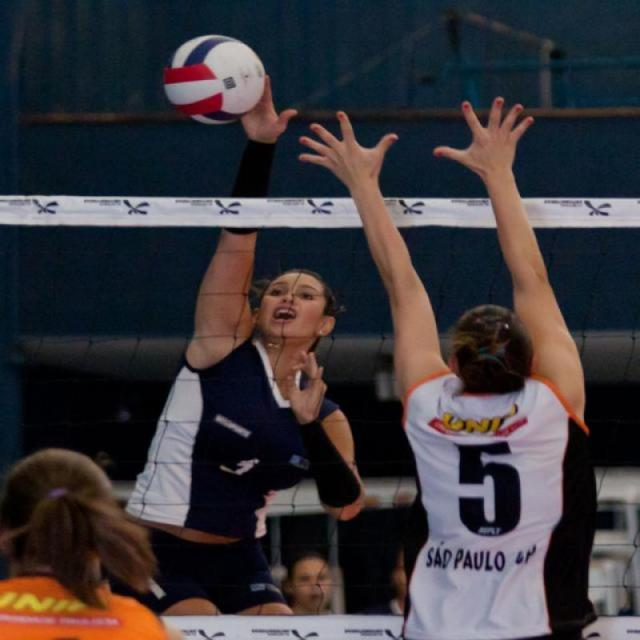volleyball: (162, 31, 266, 127)
